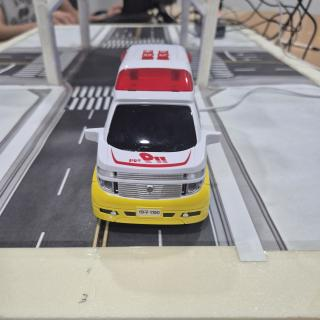Ambulance: (85, 45, 221, 224)
